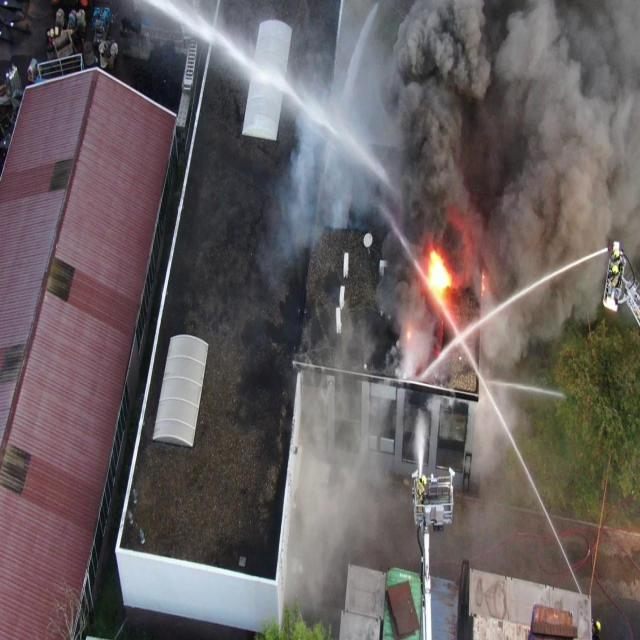Fire: (428, 249, 451, 289), (481, 274, 485, 297), (408, 332, 410, 338)
Smoke: (253, 0, 639, 615)
